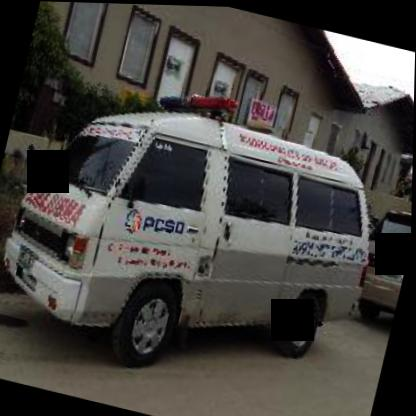emergency: (0, 50, 404, 415)
not_emergency: (347, 185, 412, 331)
